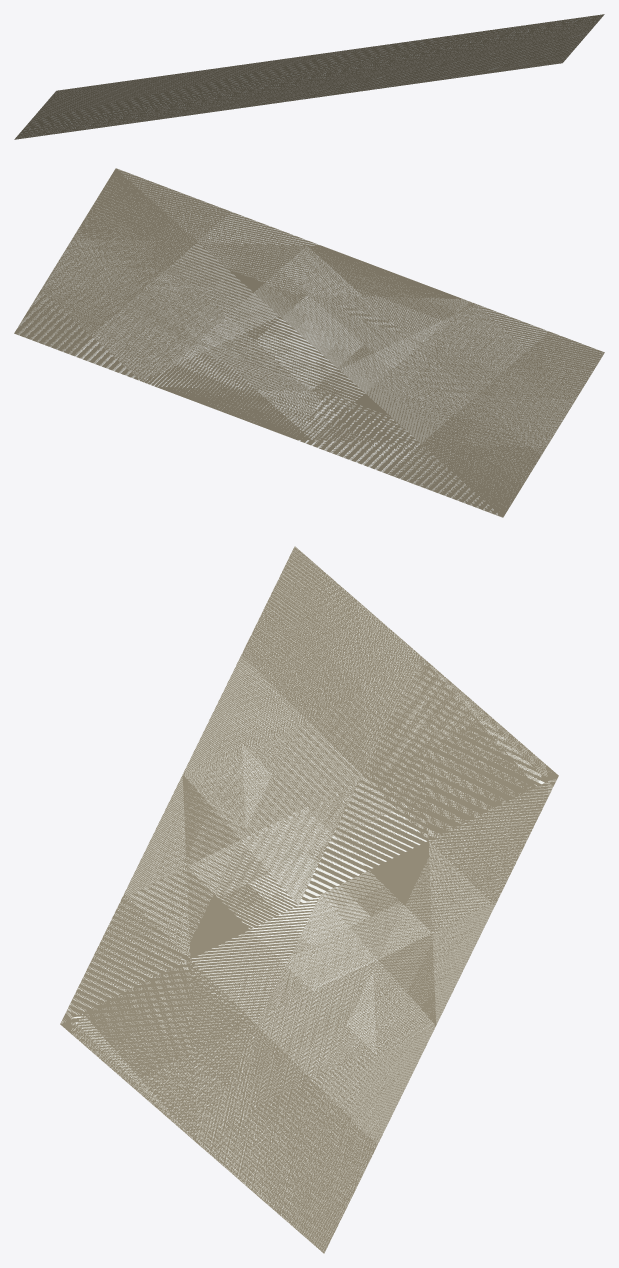
The model's file is 大本钟57.dae.
3 renders of one model, top to bottom at view 1: azimuth 30°, elevation 25°; view 2: azimuth 150°, elevation 25°; view 3: azimuth 270°, elevation 25°, orthographic. The views are drawn at different scales.
Visible parts, largest first — view 1: SketchUp; view 2: SketchUp; view 3: SketchUp.
Part boxes in pixels (<box>): SketchUp: <box>14,14,604,139</box>; SketchUp: <box>14,168,604,517</box>; SketchUp: <box>60,546,558,1253</box>.
Size of the model in its own units: 41.01 by 17.24 by 7.88.
2 materials, 1 textured.
